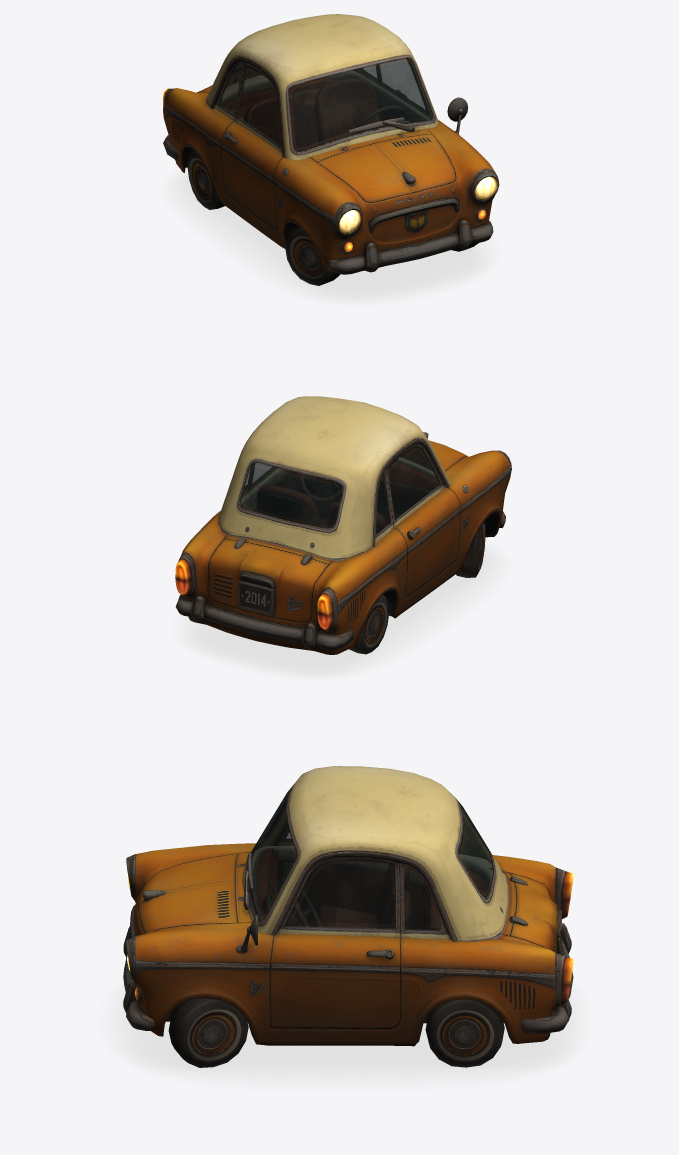
The model's file is car_compressed.glb.
3 renders of one model, top to bottom at view 1: azimuth 30°, elevation 25°; view 2: azimuth 150°, elevation 25°; view 3: azimuth 270°, elevation 25°, orthographic. The views are drawn at different scales.
Parts seen in each view (by area): view 1: Object_2, Object_3, Object_5, Object_4; view 2: Object_2, Object_3, Object_5, Object_4; view 3: Object_2, Object_3, Object_5, Object_4.
Part boxes in pixels (left/top/right/bottom): Object_2: left=163, top=14, right=499, bottom=285; Object_3: left=164, top=168, right=497, bottom=304; Object_5: left=220, top=58, right=433, bottom=152; Object_4: left=222, top=70, right=430, bottom=151; Object_2: left=175, top=396, right=511, bottom=654; Object_3: left=175, top=540, right=509, bottom=679; Object_5: left=240, top=446, right=440, bottom=534; Object_4: left=241, top=457, right=438, bottom=533; Object_2: left=123, top=766, right=573, bottom=1067; Object_3: left=103, top=984, right=587, bottom=1088; Object_5: left=251, top=786, right=493, bottom=930; Object_4: left=251, top=846, right=492, bottom=930.
Bounding box in the file's own units: 2.9 × 1.34 × 3.43.
Materials: 4 (4 with a texture image).
